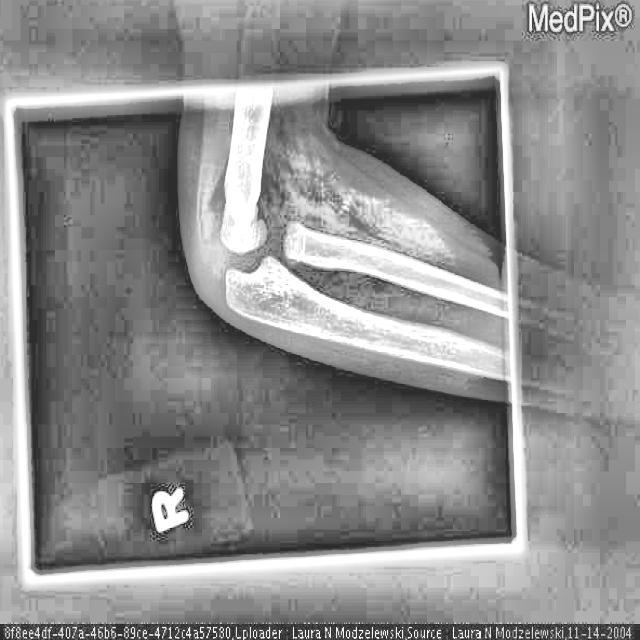fracture: (220, 100, 258, 189)
